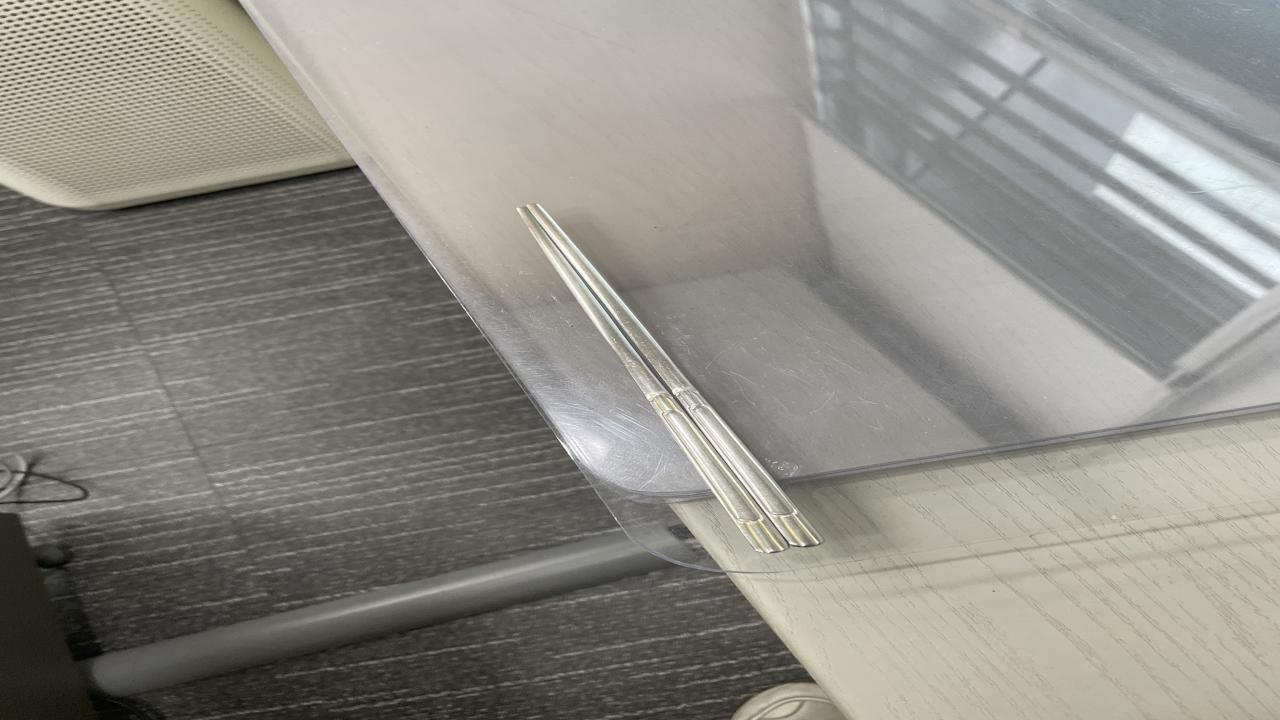chopstick: (514, 204, 820, 550)
